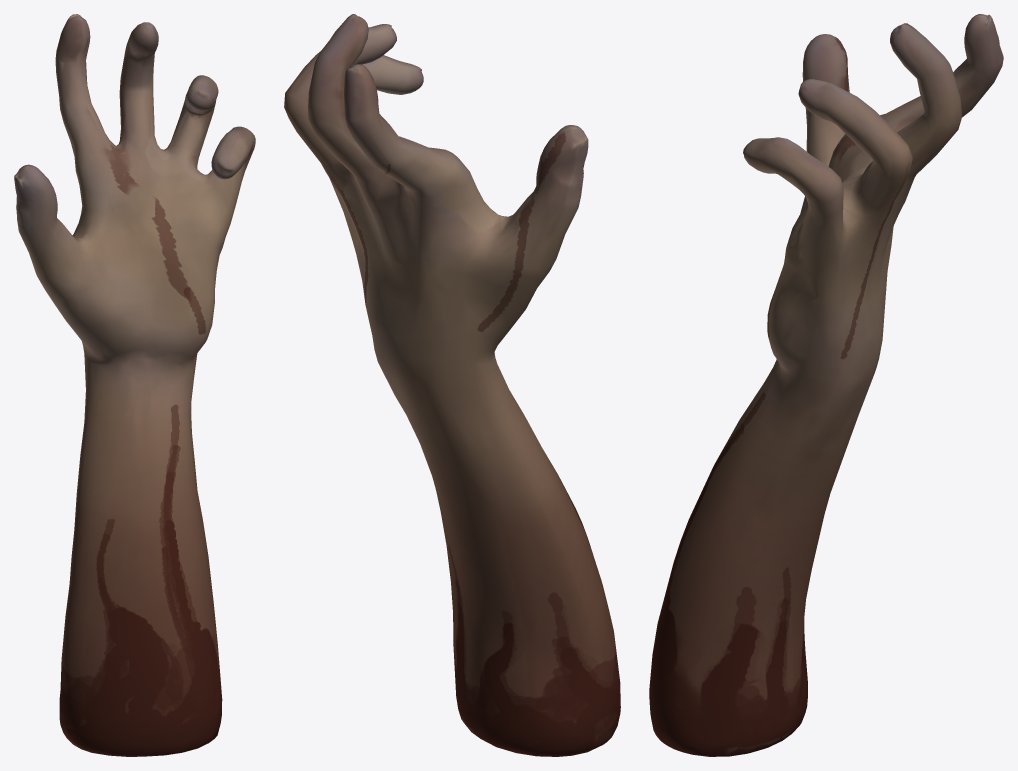
The model's file is hand.fbx.
The picture shows the model from 3 angles, left to right: view 1: azimuth 30°, elevation 25°; view 2: azimuth 150°, elevation 25°; view 3: azimuth 270°, elevation 25°; orthographic projection. The views are drawn at different scales.
Parts seen in each view (by area): view 1: hand; view 2: hand; view 3: hand.
Part boxes in pixels (x1,y1,x2,y2): hand: (14, 14, 255, 756); hand: (284, 14, 620, 756); hand: (649, 14, 1003, 756).
Bounding box in the file's own units: 687 × 618 × 1595.
Materials: 1 (1 with a texture image).
